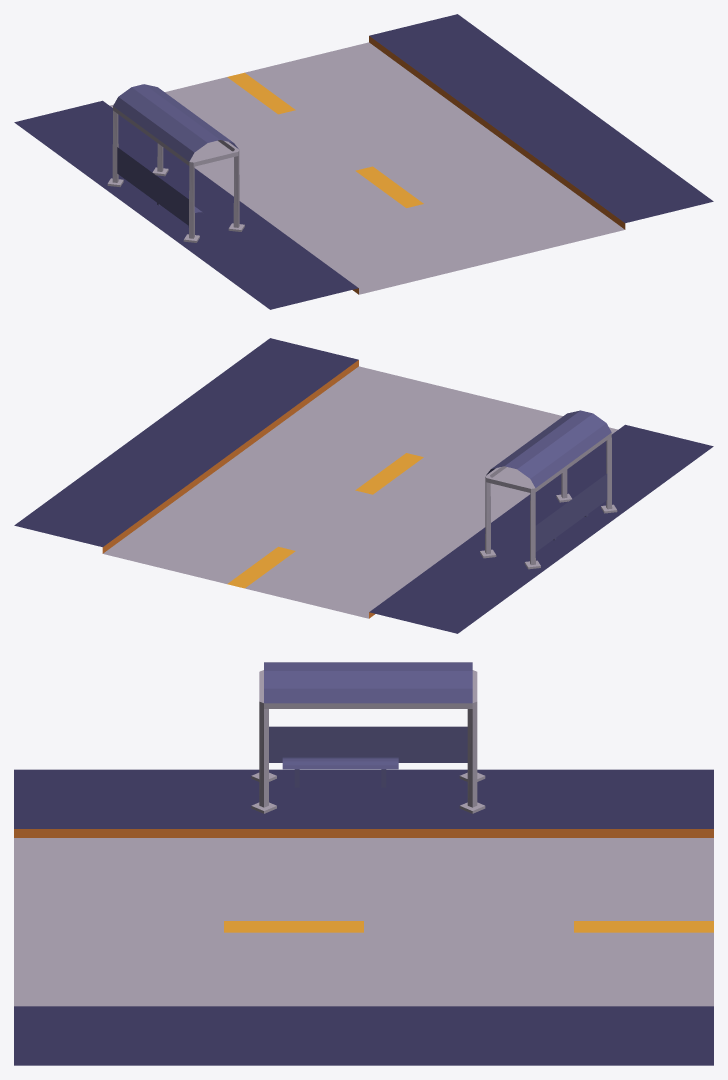
File: road2.obj
The picture shows the model from 3 angles, top to bottom: view 1: azimuth 30°, elevation 25°; view 2: azimuth 150°, elevation 25°; view 3: azimuth 270°, elevation 25°; orthographic projection. The views are drawn at different scales.
Parts seen in each view (by area): view 1: ROAD2; view 2: ROAD2; view 3: ROAD2.
Boxes of the visible parts, left/top/right/bottom form: ROAD2: left=14, top=14, right=713, bottom=309; ROAD2: left=14, top=338, right=713, bottom=633; ROAD2: left=14, top=662, right=713, bottom=1065.
Bounding box in the file's own units: 10 × 2.14 × 10.
